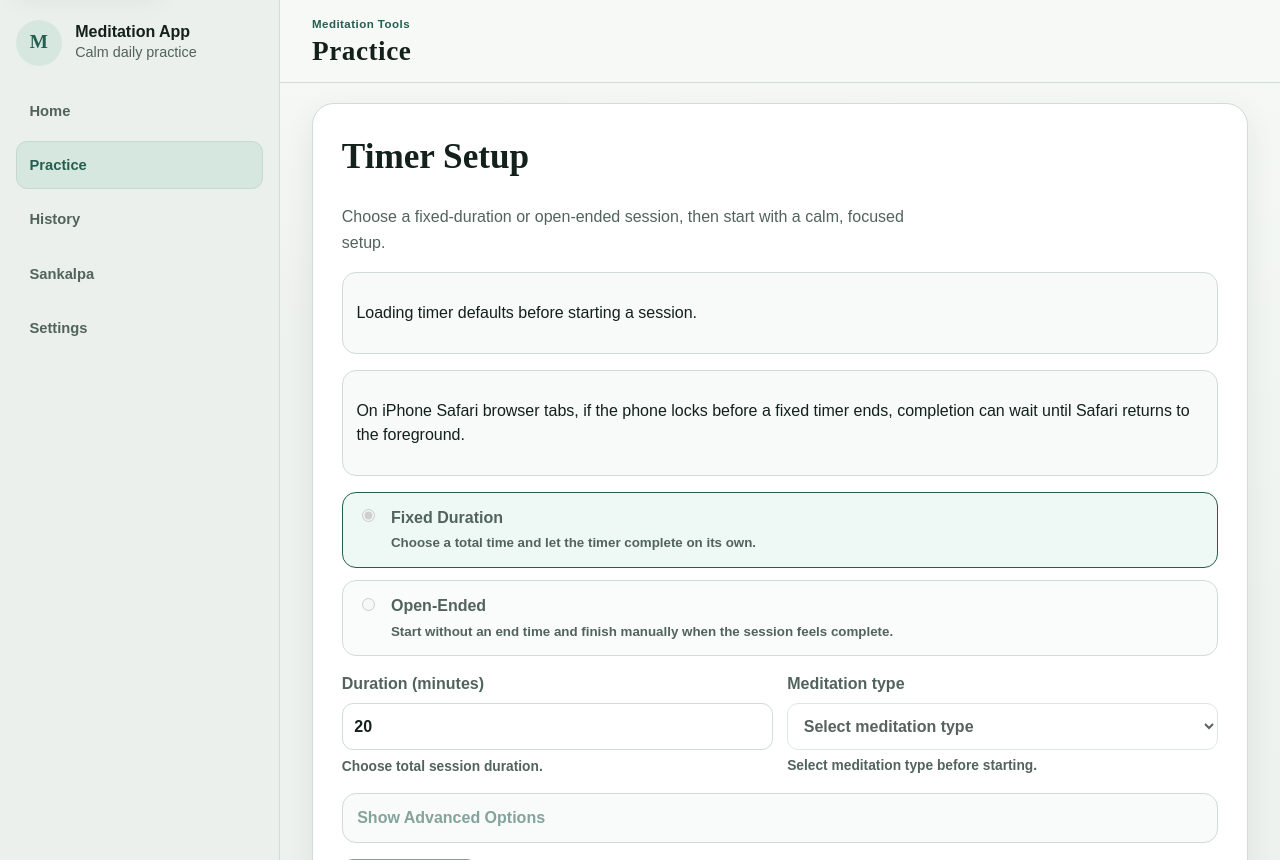
Test: ActiveTimerPage UX › shows iPhone Safari guidance only in likely relevant runtime contexts
Select "Vipassana" in the dropdown labelled "Meditation type Select meditation type before starting.": (1003, 727) left=787, top=703, right=1218, bottom=750
(page scrolled)
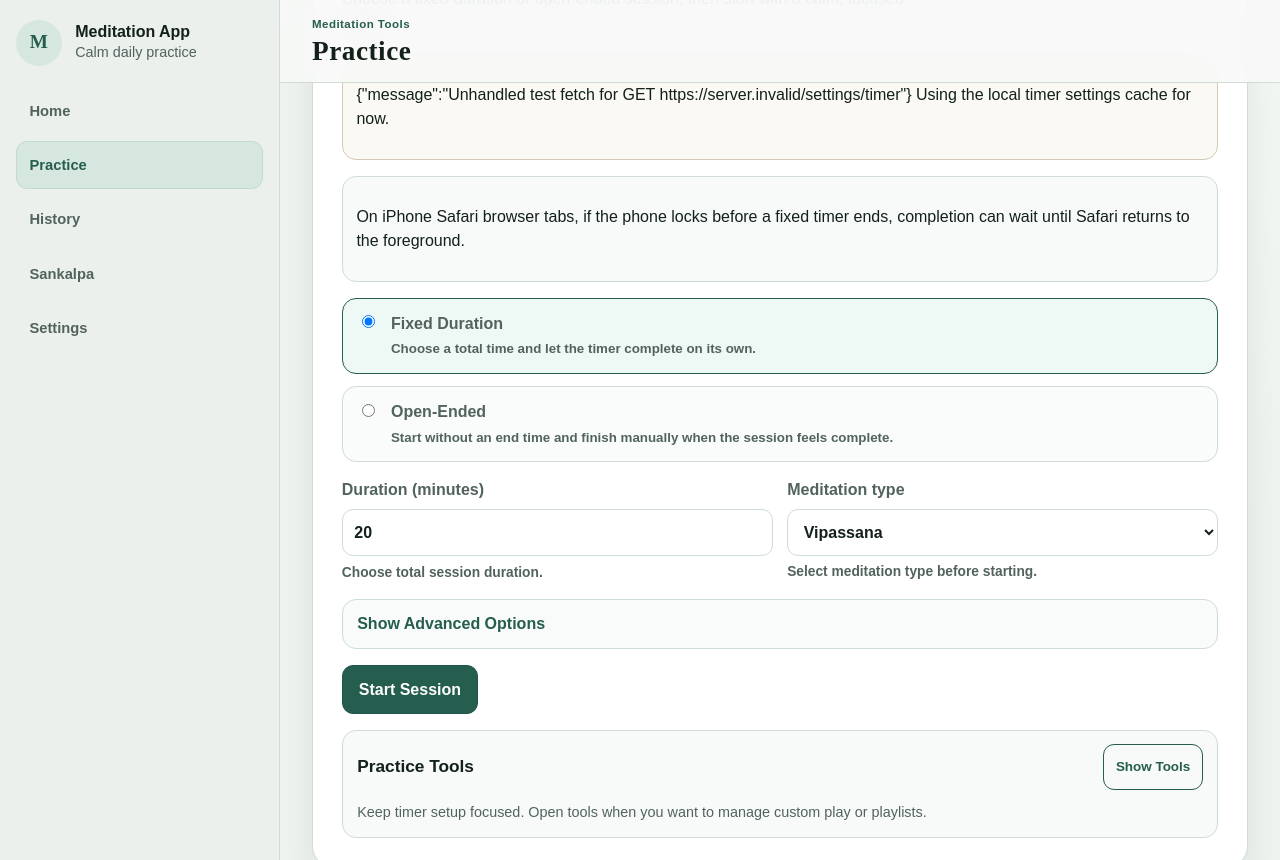
Expected: the button "Start Session" is enabled
Click the button "Start Session": (410, 690) left=342, top=665, right=478, bottom=714
(page scrolled)
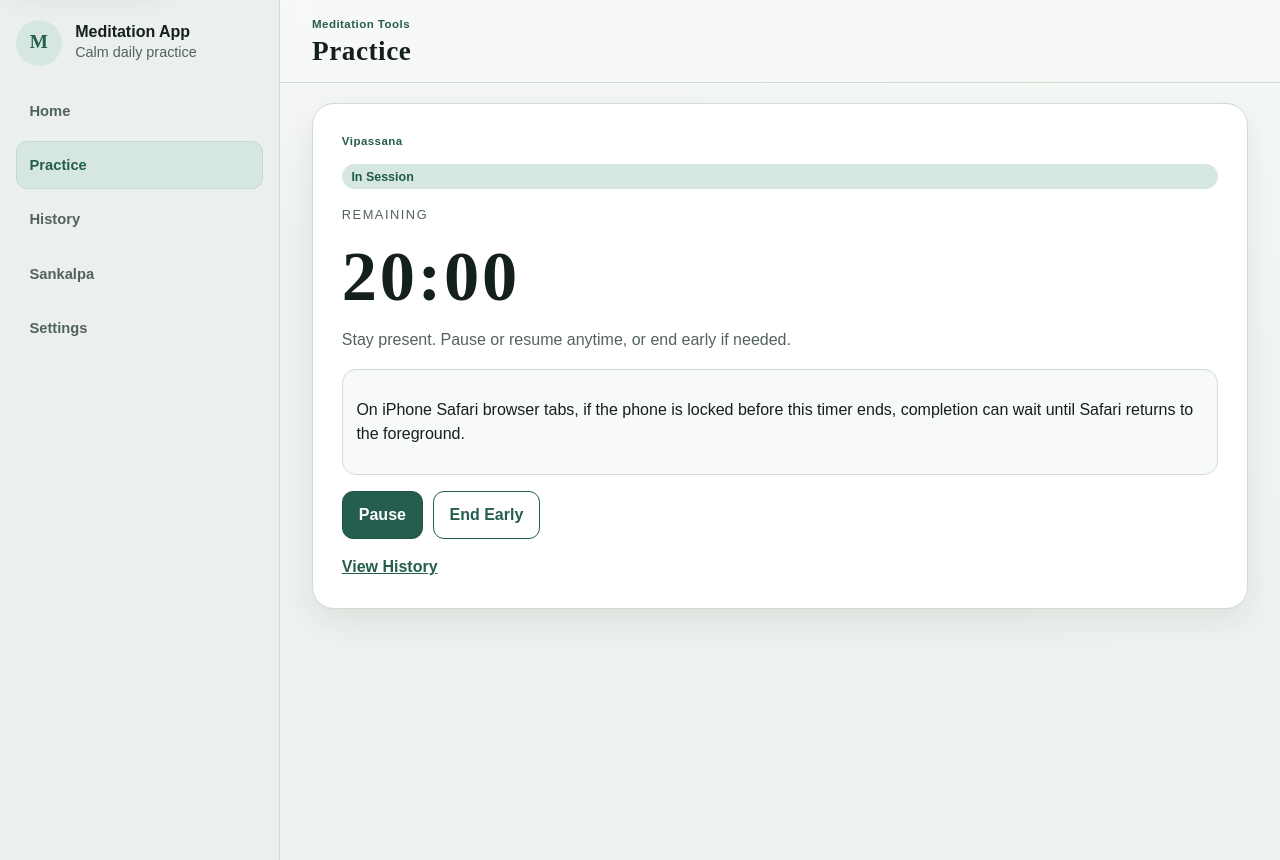
Expected: the text "On iPhone Safari browser tabs, if the phone is locked before this timer ends" is shown, left=356, top=401, right=1193, bottom=442
